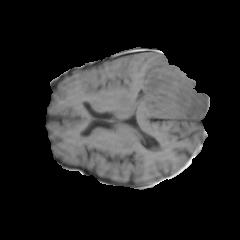glioma: (136, 56, 208, 118)
